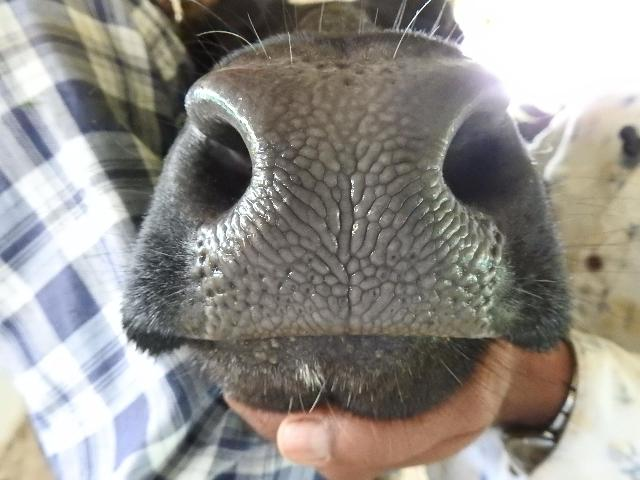Muzzle: (187, 70, 485, 340)
